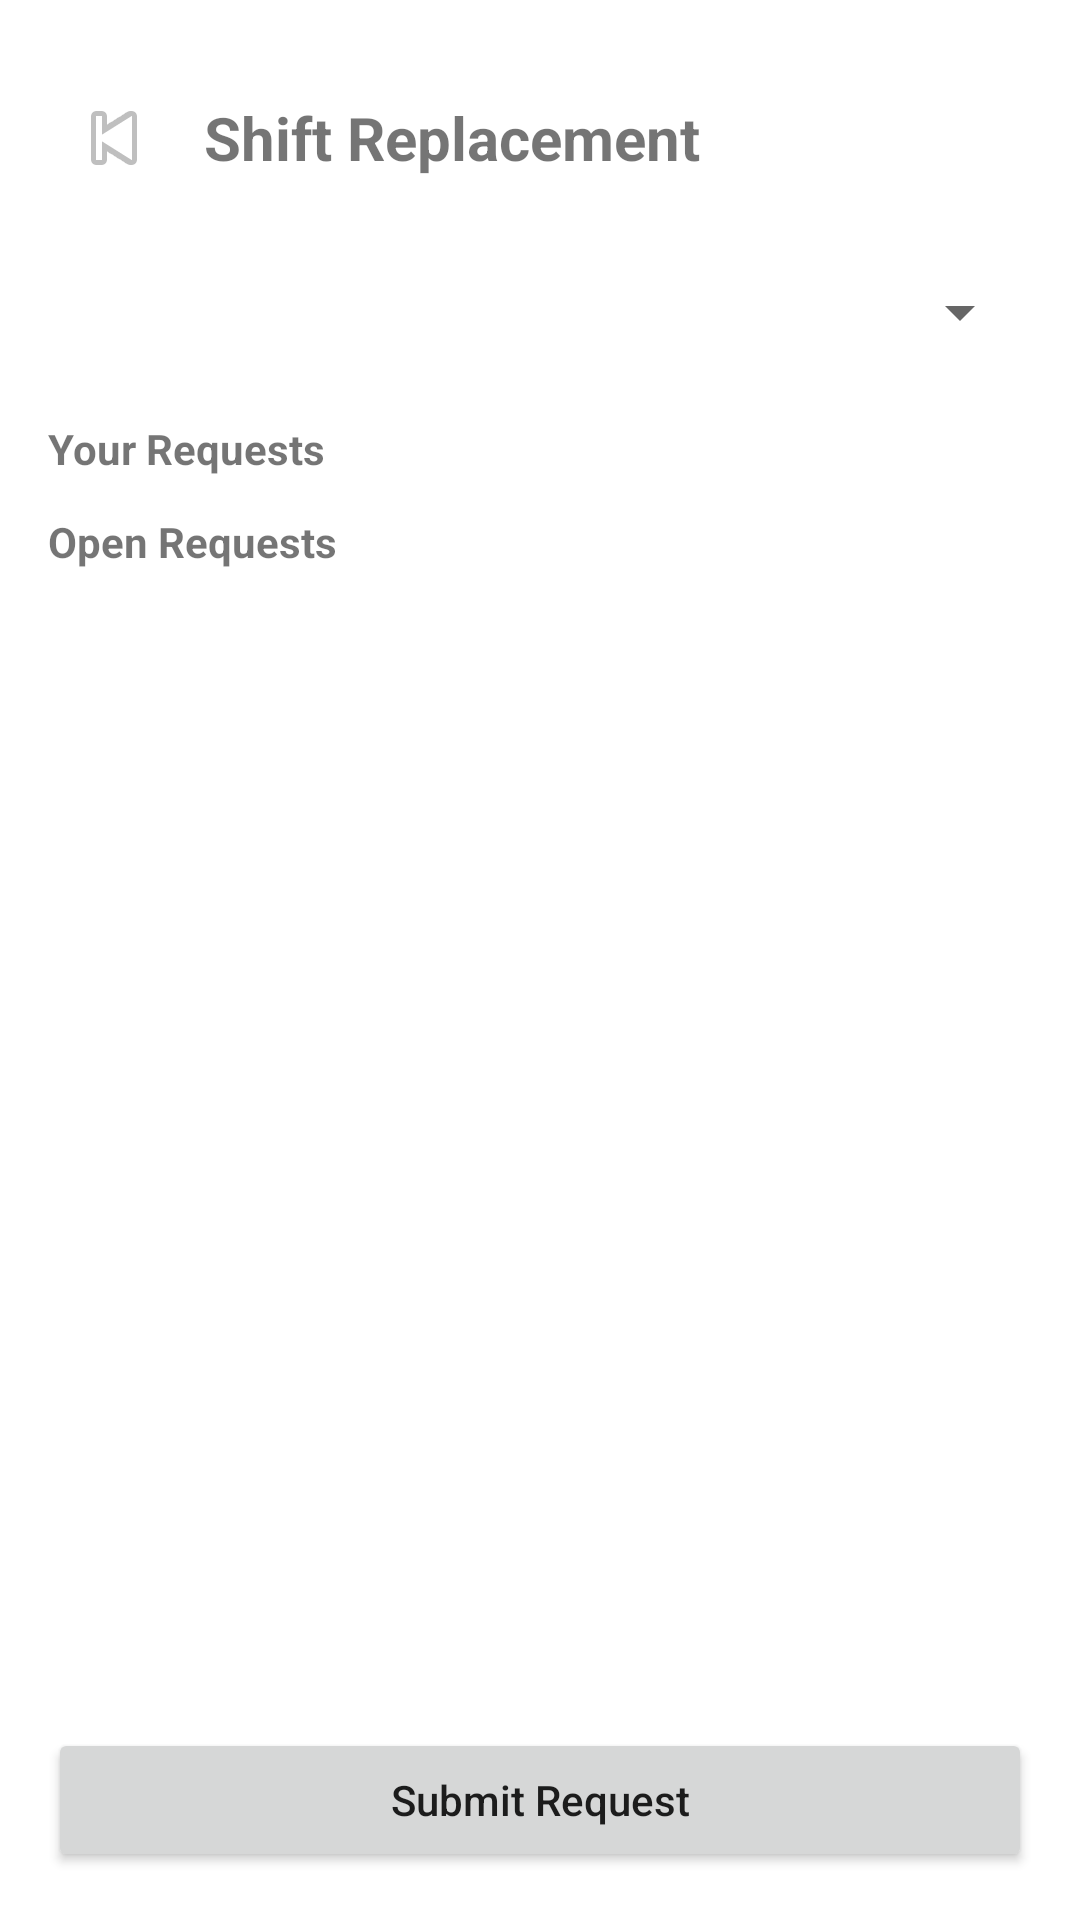

Icon bounding boxes for this 1080 x 1920 phone screenshot, format bbox(x1, y1, x2, y2):
Back: bbox(91, 111, 137, 165)
